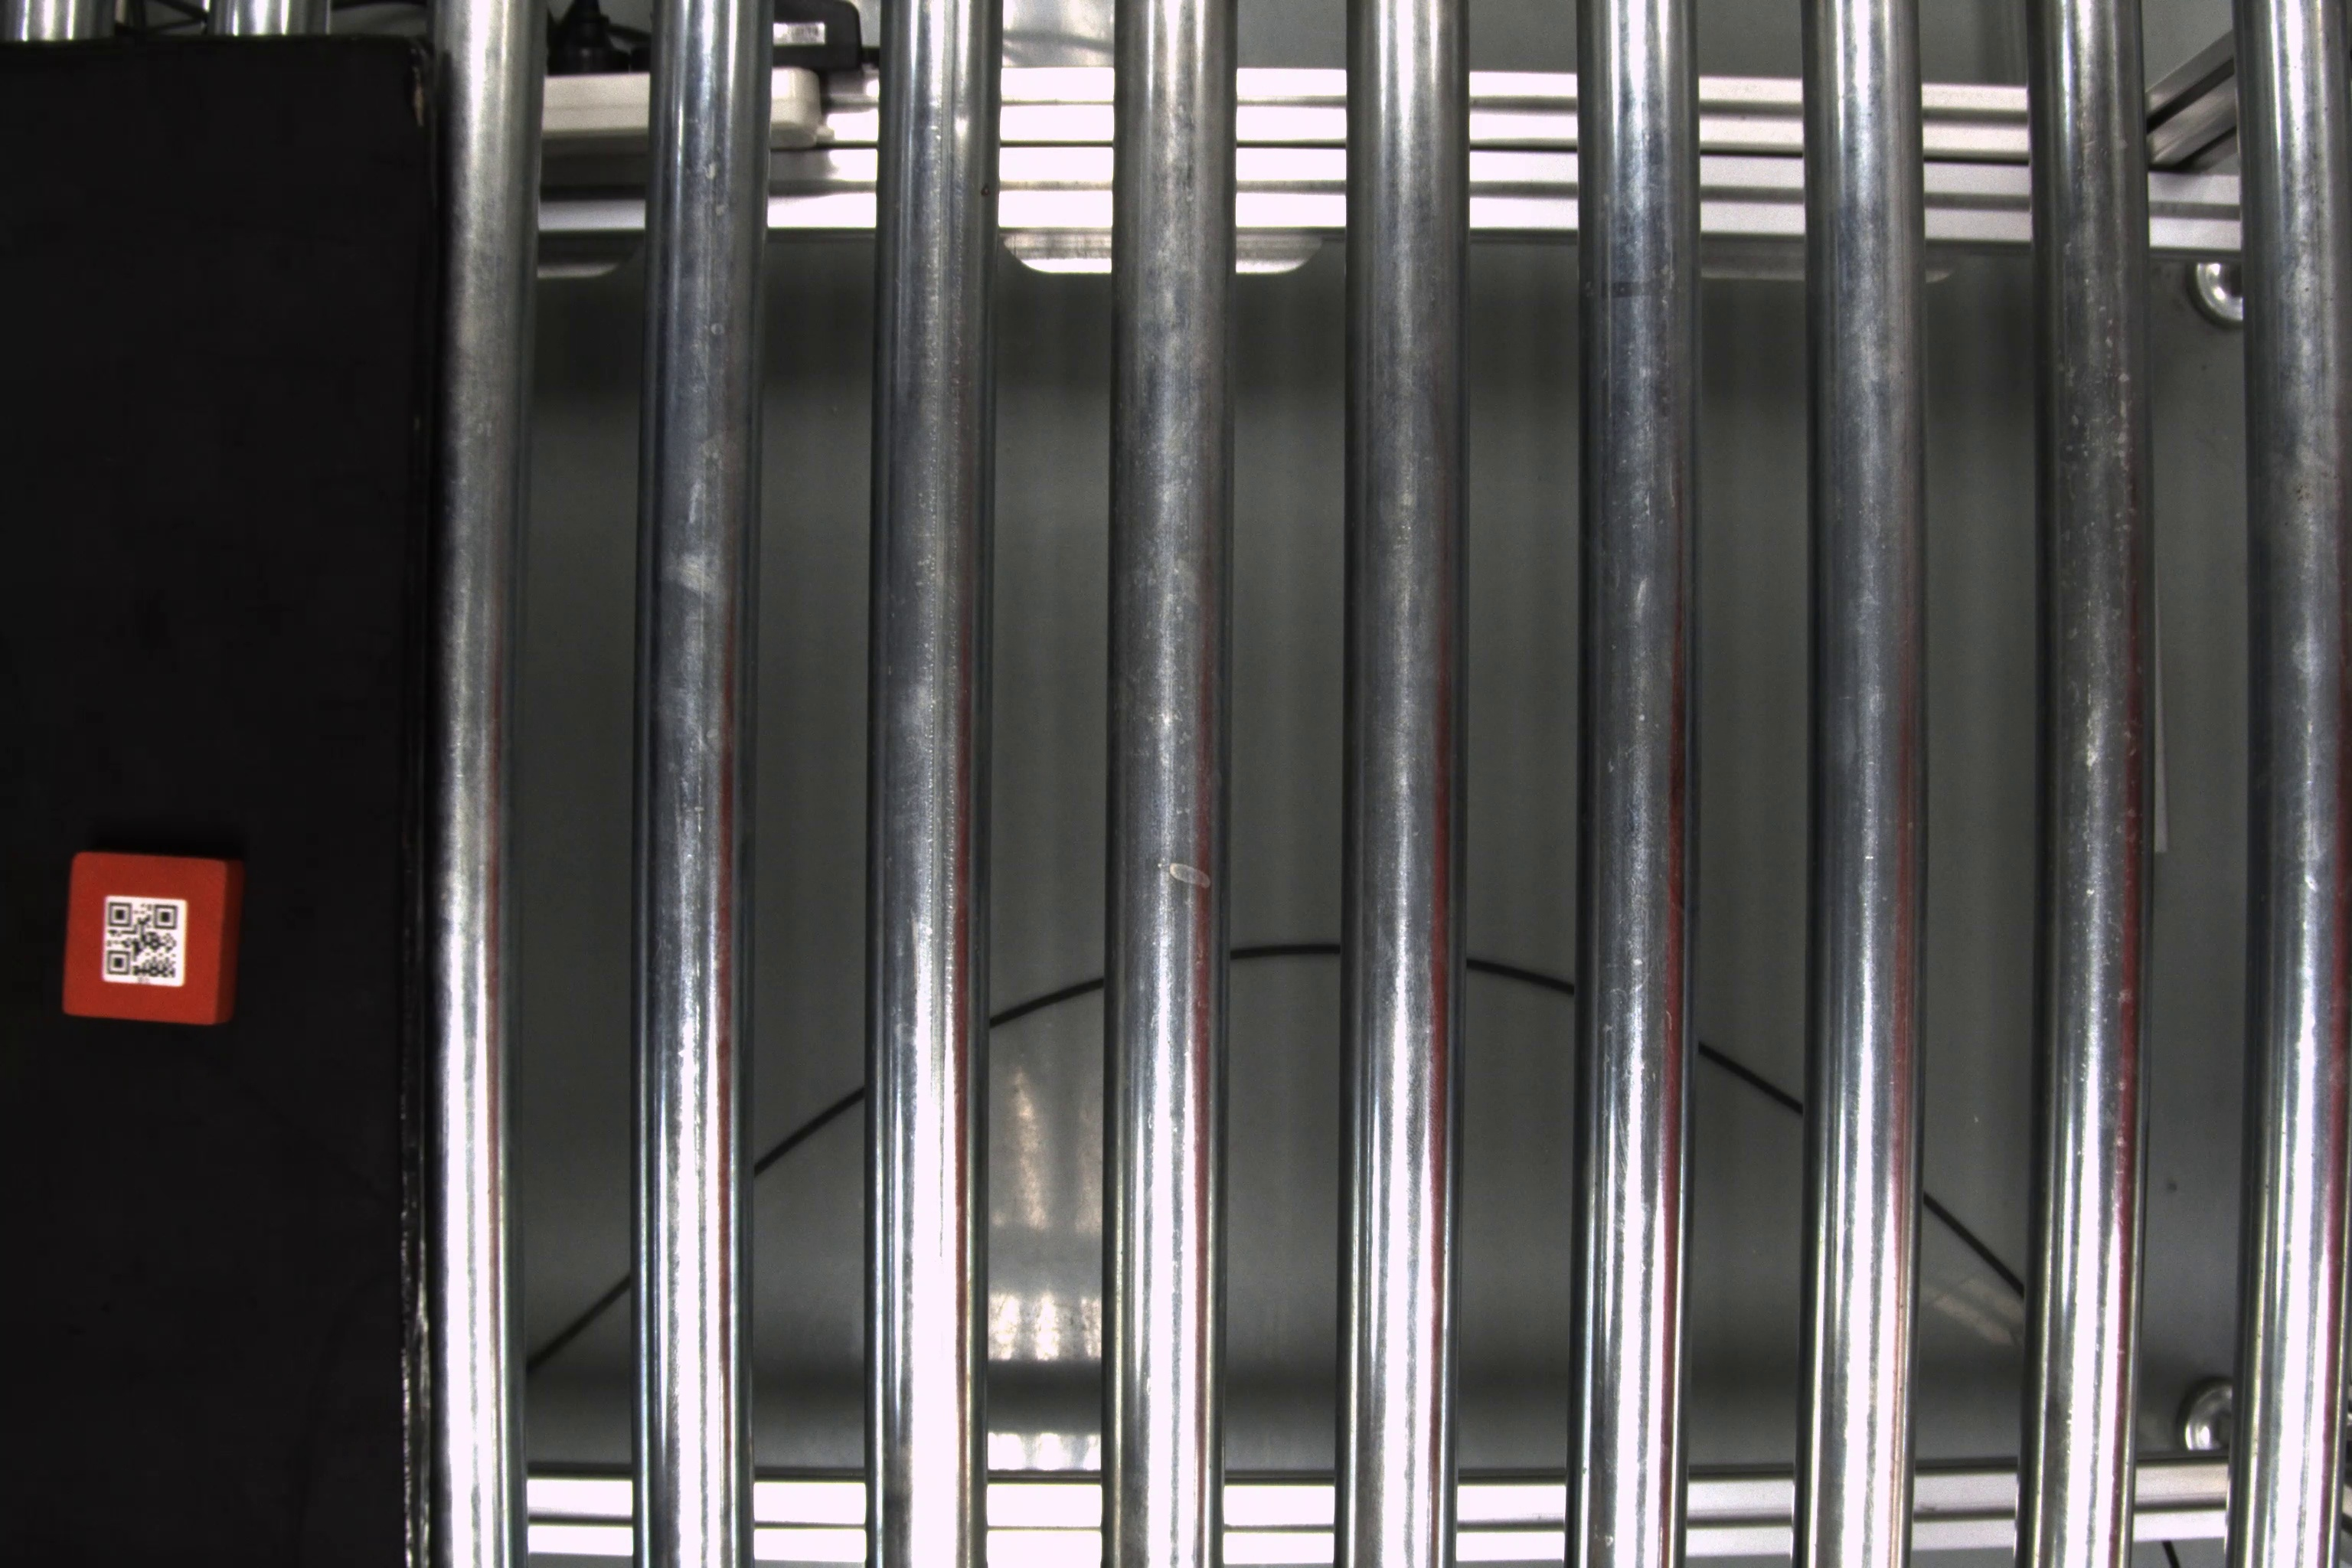wood: (58, 849, 234, 1031)
